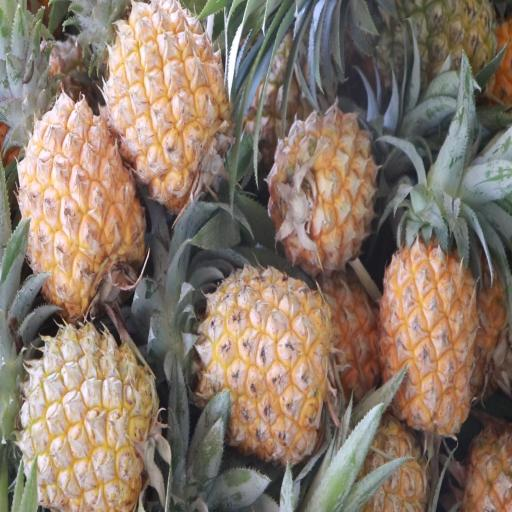Pineapple - v8 v1: (19, 104, 144, 316), (103, 3, 231, 198), (22, 328, 156, 512), (202, 269, 331, 458), (382, 233, 480, 434), (271, 108, 377, 271)
